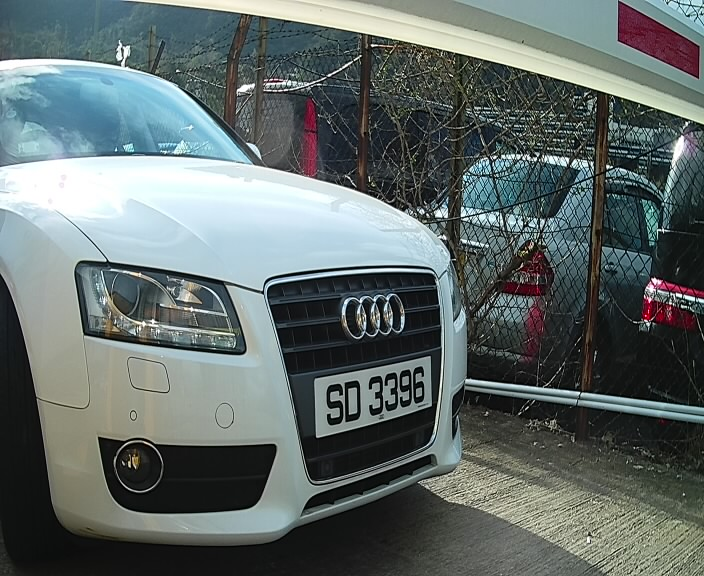License Plate: (302, 348, 442, 448)
